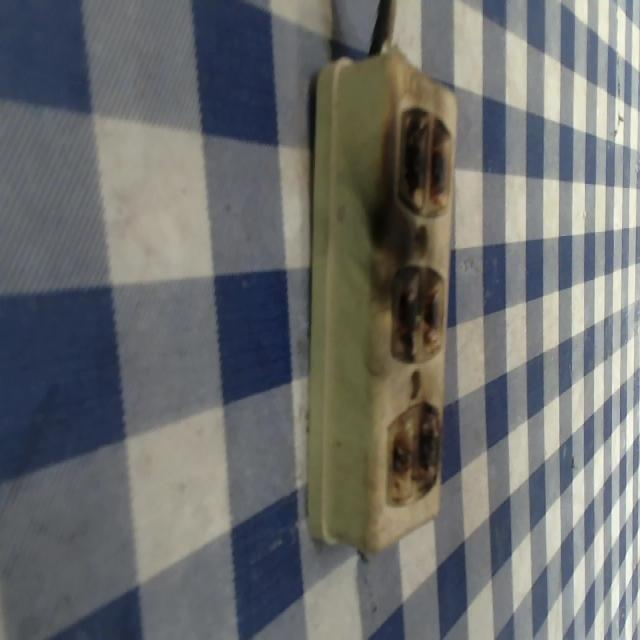-: (383, 396, 441, 507), (397, 104, 452, 219), (386, 260, 446, 363)
